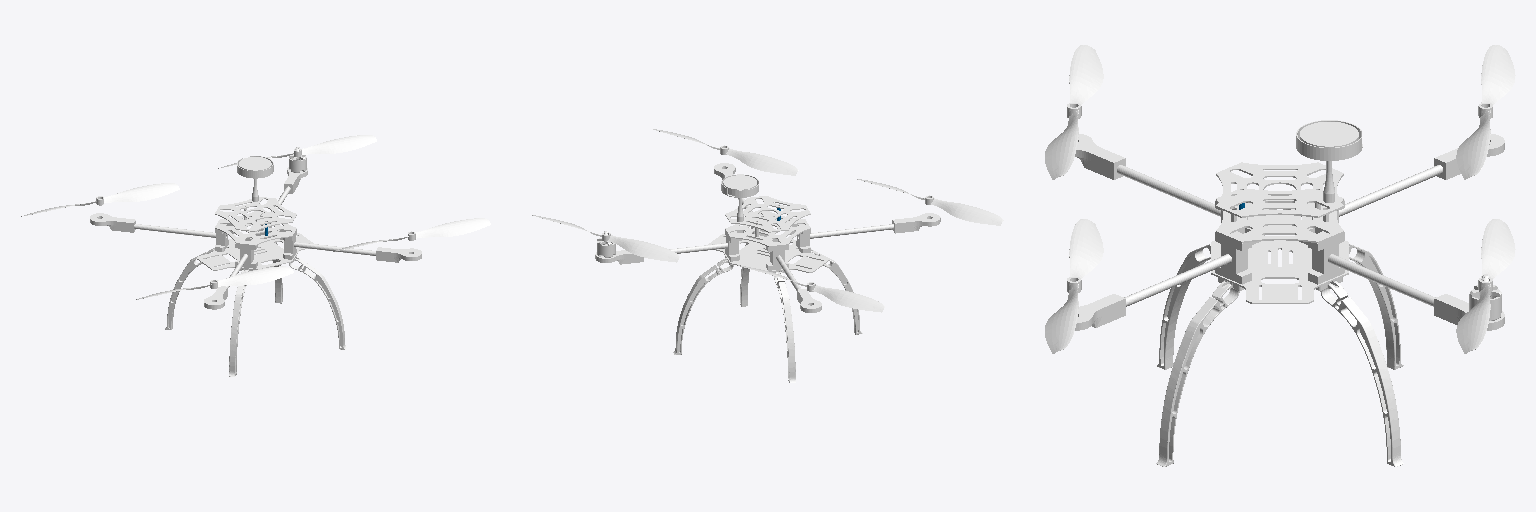
--- Facts derived from the render (not from the file) ---
Views: 3 orthographic renders of the robot side by side, from view 1: azimuth 30°, elevation 25°; view 2: azimuth 150°, elevation 25°; view 3: azimuth 270°, elevation 25°.
Model Spark_F450 with 31 links and 30 joints (4 continuous, 26 fixed), rooted at CHASIS_0, posed all joints at 0.
Links seen in each view (by area): view 1: CHASIS_2, CHASIS_0, BACK_RIGHT_PROPELLER, BACK_LEFT_PROPELLER, FRONT_RIGHT_PROPELLER, CHASIS_1, FRONT_LEFT_PROPELLER, FRONT_RIGHT_FOOT, BACK_RIGHT_FOOT, BACK_LEFT_MBASE, FRONT_RIGHT_MBASE, BACK_LEFT_FOOT; view 2: CHASIS_2, CHASIS_0, CHASIS_1, BACK_RIGHT_PROPELLER, FRONT_RIGHT_PROPELLER, BACK_LEFT_PROPELLER, FRONT_LEFT_PROPELLER, FRONT_LEFT_FOOT, BACK_LEFT_FOOT, BACK_RIGHT_MBASE; view 3: CHASIS_2, CHASIS_0, FRONT_RIGHT_FOOT, FRONT_LEFT_FOOT, BACK_LEFT_PROPELLER, FRONT_RIGHT_PROPELLER, BACK_RIGHT_PROPELLER, FRONT_LEFT_PROPELLER, CHASIS_1, BACK_LEFT_FOOT, BACK_RIGHT_FOOT, GPS_ANTENNA (+12 smaller).
Boxes of the visible links, x1=… form: CHASIS_2: x1=197, y1=233, x2=313, y2=270; CHASIS_0: x1=215, y1=197, x2=296, y2=231; BACK_RIGHT_PROPELLER: x1=136, y1=266, x2=293, y2=299; BACK_LEFT_PROPELLER: x1=21, y1=183, x2=179, y2=216; FRONT_RIGHT_PROPELLER: x1=333, y1=218, x2=490, y2=251; CHASIS_1: x1=215, y1=211, x2=296, y2=245; FRONT_LEFT_PROPELLER: x1=218, y1=135, x2=376, y2=168; FRONT_RIGHT_FOOT: x1=289, y1=256, x2=346, y2=349; BACK_RIGHT_FOOT: x1=229, y1=269, x2=252, y2=376; BACK_LEFT_MBASE: x1=90, y1=213, x2=135, y2=232; FRONT_RIGHT_MBASE: x1=376, y1=247, x2=421, y2=262; BACK_LEFT_FOOT: x1=165, y1=248, x2=227, y2=329; CHASIS_2: x1=708, y1=234, x2=828, y2=272; CHASIS_0: x1=725, y1=196, x2=810, y2=232; CHASIS_1: x1=725, y1=211, x2=810, y2=246; BACK_RIGHT_PROPELLER: x1=857, y1=179, x2=1003, y2=225; FRONT_RIGHT_PROPELLER: x1=653, y1=129, x2=798, y2=175; BACK_LEFT_PROPELLER: x1=737, y1=265, x2=884, y2=312; FRONT_LEFT_PROPELLER: x1=532, y1=215, x2=679, y2=262; FRONT_LEFT_FOOT: x1=673, y1=257, x2=733, y2=354; BACK_LEFT_FOOT: x1=773, y1=271, x2=795, y2=382; BACK_RIGHT_MBASE: x1=892, y1=213, x2=940, y2=233; CHASIS_2: x1=1211, y1=215, x2=1348, y2=303; CHASIS_0: x1=1216, y1=162, x2=1343, y2=217; FRONT_RIGHT_FOOT: x1=1156, y1=277, x2=1243, y2=466; FRONT_LEFT_FOOT: x1=1316, y1=277, x2=1403, y2=466; BACK_LEFT_PROPELLER: x1=1456, y1=45, x2=1515, y2=179; FRONT_RIGHT_PROPELLER: x1=1045, y1=219, x2=1103, y2=353; BACK_RIGHT_PROPELLER: x1=1045, y1=45, x2=1103, y2=179; FRONT_LEFT_PROPELLER: x1=1456, y1=219, x2=1515, y2=353; CHASIS_1: x1=1216, y1=189, x2=1343, y2=242; BACK_LEFT_FOOT: x1=1349, y1=244, x2=1403, y2=369; BACK_RIGHT_FOOT: x1=1157, y1=244, x2=1210, y2=369; GPS_ANTENNA: x1=1296, y1=120, x2=1362, y2=202.
Size in the robot's own frame: 0.6065 by 0.3963 by 0.2715 metres.
27 mesh visuals loaded from 30 distinct referenced files (27 binary STL); not drawn: 3 (reference not matched to a file when rendering).

robot.urdf — Spark_F450:
<?xml version="1.0"?>
<robot name = "Spark_F450">
<!-- -->
<!--________________________________________CHASIS-0_______________________________________________________________________________  -->
<link name="CHASIS_0">
 <visual>
 <origin xyz="0 0 0" rpy="0 0 0" />
 <geometry>   
           <mesh filename="package://drone_f450/meshes/chasis_0.STL" scale="0.001 0.001 0.001" />  
 </geometry>
 <material name="gold1">
                        <color rgba="54 43 21 0.8"/>
 </material>

 </visual>
   
 <collision>
 <origin xyz="0 0 0.00075" rpy="0 0 0"/>
 <geometry>
           <box size="0.108 0.108 0.0015"/>
 </geometry>
 </collision>
		<inertial>
			<mass value="0.0268"/>
	 		<inertia ixx="1.0" ixy="0.0" ixz="0.0" iyy="1.0" iyz="0.0" izz="1.0"/>
		</inertial>
</link>
<!--________________________________________GPS_ANTENA_______________________________________________________________________________  -->
<link name="GPS_ANTENNA">
 <visual>
     <origin xyz="0 0 0" rpy="0 0 0" />
      #this origen is then located where the tf is placed
     <geometry>
              <mesh filename="package://drone_f450/meshes/gps_antena.STL" scale="0.001 0.001 0.001"/> 
     </geometry>

     <material name="GOLD2">
              <color rgba="101 71 20 0.8"/>
     </material>
 </visual>
    
 <collision>
     <origin xyz="0 0 0.031" rpy="0 0 0"/> #Respect to the GPS origen
     <geometry>
           <cylinder radius="0.027" length="0.062"/>
     </geometry>
 </collision>
		<inertial>
			<mass value="0.0268"/>
	 		<inertia ixx="1.0" ixy="0.0" ixz="0.0" iyy="1.0" iyz="0.0" izz="1.0"/>
		</inertial>
</link>
<!--________________________________________GPS-PIXWAWK_______________________________________________________________________________  -->
<link name="GPS_PIXHAWK">
 <visual>
     <origin xyz="0 0 0.0055" rpy="0 0 0" />#this origen is then located where the tf is placed
     <geometry>
              <cylinder radius="0.025" length="0.011"/>
     </geometry>

     <material name="GOLD2">
              <color rgba="101 71 20 0.60"/>
     </material>
 </visual>
    
 <collision>
     <origin xyz="0 0 0.0055" rpy="0 0 0"/> #Respect to the GPS origen
     <geometry>
               <cylinder radius="0.025" length="0.011"/>
     </geometry>
 </collision>
		<inertial>
			<mass value="0.02"/>
	 		<inertia ixx="1.0" ixy="0.0" ixz="0.0" iyy="1.0" iyz="0.0" izz="1.0"/>
		</inertial>
</link>
<!--________________________________________LEFT-COLUMN_______________________________________________________________________________  -->
<link name="LEFT_COLUMN">

 <visual>
     <origin xyz="0 0 0" rpy="0 0 0" />
     <geometry>
               <mesh filename="package://drone_f450/meshes/left_column.STL" scale="0.001 0.001 0.001"/>
     </geometry>
     <material name="GOLD2">
          <color rgba="101 71 20 0.8"/>
     </material>
 </visual>
    
 <collision>
     <origin xyz="0 0 -0.011" rpy="0 0 0"/>
     <geometry>
           <cylinder radius="0.003176" length="0.022"/>
     </geometry>
 </collision>
		<inertial>
			<mass value="0.0009"/>
	 		<inertia ixx="1.0" ixy="0.0" ixz="0.0" iyy="1.0" iyz="0.0" izz="1.0"/>
		</inertial>
</link>
<!--________________________________________RIGHT-COLUMN_______________________________________________________________________________  -->
<link name="RIGHT_COLUMN">

 <visual>
     <origin xyz="0 0 0" rpy="0 0 0" />
     <geometry>
               <mesh filename="package://drone_f450/meshes/right_column.STL" scale="0.001 0.001 0.001"/>
     </geometry>

 </visual>
    
 <collision>
     <origin xyz="0 0 -0.011" rpy="0 0 0"/>
     <geometry>
           <cylinder radius="0.003176" length="0.022"/>
     </geometry>
 </collision>
		<inertial>
			<mass value="0.0009"/>
	 		<inertia ixx="1.0" ixy="0.0" ixz="0.0" iyy="1.0" iyz="0.0" izz="1.0"/>
		</inertial>
</link>

<!--________________________________________CHASIS-1_______________________________________________________________________________  -->
<link name="CHASIS_1">

 <visual>
     <origin xyz="0 0.032 0" rpy="0 0 0" />
     <geometry>
               <mesh filename="package://drone_f450/meshes/chasis_1.STL" scale="0.001 0.001 0.001"/>
     </geometry>
     <material name="GOLD2">
          <color rgba="101 71 20 0.8"/>
     </material>
 </visual>
    
 <collision>
 <origin xyz="0 0.032 0.00075" rpy="0 0 0"/>
          <geometry>
                   <box size="0.108 0.108 0.0015"/>
         </geometry>
 </collision>
		<inertial>
			<mass value="0.0268"/>
	 		<inertia ixx="1.0" ixy="0.0" ixz="0.0" iyy="1.0" iyz="0.0" izz="1.0"/>
		</inertial>
</link>
<!--________________________________________FRONT-LEFT-BLOCK___________________________________________________________________________  -->
<link name="FRONT_LEFT_BLOCK">

 <visual>
     <origin xyz="0 0 0" rpy="0 0 0" />
     <geometry>
               <mesh filename="package://drone_f450/meshes/front_left_block.STL" scale="0.001 0.001 0.001"/>
     </geometry>
     <material name="GOLD2">
          <color rgba="101 71 20 0.60"/>
     </material>
 </visual>
    
 <collision>
 <origin xyz="0 0 -0.019 " rpy="0 0 0"/>
          <geometry>
                <cylinder radius="0.02475" length="0.038"/>
         </geometry>
 </collision>
		<inertial>
			<mass value="0.03862"/>
	 		<inertia ixx="1.0" ixy="0.0" ixz="0.0" iyy="1.0" iyz="0.0" izz="1.0"/>
		</inertial>
</link>
<!--________________________________________FRONT-RIGHT-BLOCK___________________________________________________________________________  -->
<link name="FRONT_RIGHT_BLOCK">

 <visual>
     <origin xyz="0 0 0" rpy="0 0 0" />
     <geometry>
               <mesh filename="package://drone_f450/meshes/front_right_block.STL" scale="0.001 0.001 0.001"/>
     </geometry>
     <material name="GOLD2">
          <color rgba="101 71 20 0.60"/>
     </material>
 </visual>
    
 <collision>
 <origin xyz="0 0 -0.019 " rpy="0 0 0"/>
          <geometry>
                <cylinder radius="0.02475" length="0.038"/>
         </geometry>
 </collision>
		<inertial>
			<mass value="0.03862"/>
	 		<inertia ixx="1.0" ixy="0.0" ixz="0.0" iyy="1.0" iyz="0.0" izz="1.0"/>
		</inertial>
</link>

<!--________________________________________BACK-LEFT-BLOCK___________________________________________________________________________  -->
<link name="BACK_LEFT_BLOCK">

 <visual>
     <origin xyz="0 0 0" rpy="0 0 0" />
     <geometry>
               <mesh filename="package://drone_f450/meshes/back_left_block.STL" scale="0.001 0.001 0.001"/>
     </geometry>
     <material name="GOLD2">
          <color rgba="101 71 20 0.60"/>
     </material>
 </visual>
    
 <collision>
 <origin xyz="0 0 -0.019 " rpy="0 0 0"/>
          <geometry>
                <cylinder radius="0.02475" length="0.038"/>
         </geometry>
 </collision>
		<inertial>
			<mass value="0.03862"/>
	 		<inertia ixx="1.0" ixy="0.0" ixz="0.0" iyy="1.0" iyz="0.0" izz="1.0"/>
		</inertial>
</link>
<!--________________________________________BACK-RIGHT-BLOCK___________________________________________________________________________  -->
<link name="BACK_RIGHT_BLOCK">

 <visual>
     <origin xyz="0 0 0" rpy="0 0 0" />
     <geometry>
               <mesh filename="package://drone_f450/meshes/back_right_block.STL" scale="0.001 0.001 0.001"/>
     </geometry>
     <material name="GOLD2">
          <color rgba="101 71 20 0.60"/>
     </material>
 </visual>
    
 <collision>
 <origin xyz="0 0 -0.019 " rpy="0 0 0"/>
          <geometry>
                <cylinder radius="0.02475" length="0.038"/>
         </geometry>
 </collision>
		<inertial>
			<mass value="0.03862"/>
	 		<inertia ixx="1.0" ixy="0.0" ixz="0.0" iyy="1.0" iyz="0.0" izz="1.0"/>
		</inertial>
</link>
<!--________________________________________FRONT-LEFT-ARM___________________________________________________________________________  -->
<link name="FRONT_LEFT_ARM">

 <visual>
     <origin xyz="0 0 0" rpy="0 0 0" />
     <geometry>
               <mesh filename="package://drone_f450/meshes/front_left_arm.STL" scale="0.001 0.001 0.001"/>
     </geometry>
     <material name="GOLD2">
          <color rgba="101 71 20 0.80"/>
     </material>
 </visual>
    
 <collision>
 <origin xyz="0.077 0.077 0 " rpy="0 1.5708 0.785398"/>
          <geometry>
                <cylinder radius="0.02" length="0.154"/>
         </geometry>
 </collision>
		<inertial>
			<mass value="0.01278"/>
	 		<inertia ixx="1.0" ixy="0.0" ixz="0.0" iyy="1.0" iyz="0.0" izz="1.0"/>
		</inertial>
</link>
<!--________________________________________FRONT-RIGHT-ARM___________________________________________________________________________  -->
<link name="FRONT_RIGHT_ARM">

 <visual>
     <origin xyz="0 0 0" rpy="0 0 0" />
     <geometry>
               <mesh filename="package://drone_f450/meshes/front_right_arm.STL" scale="0.001 0.001 0.001"/>
     </geometry>
     <material name="GOLD2">
          <color rgba="101 71 20 0.80"/>
     </material>
 </visual>
    
 <collision>
 <origin xyz="0.077 -0.077 0 " rpy="0 1.5708 -0.785398"/>
          <geometry>
                <cylinder radius="0.02" length="0.154"/>
         </geometry>
 </collision>
		<inertial>
			<mass value="0.01278"/>
	 		<inertia ixx="1.0" ixy="0.0" ixz="0.0" iyy="1.0" iyz="0.0" izz="1.0"/>
		</inertial>
</link>
<!--________________________________________BACK-LEFT-ARM___________________________________________________________________________  -->
<link name="BACK_LEFT_ARM">

 <visual>
     <origin xyz="0 0 0" rpy="0 0 0" />
     <geometry>
               <mesh filename="package://drone_f450/meshes/back_left_arm.STL" scale="0.001 0.001 0.001"/>
     </geometry>
     <material name="GOLD2">
          <color rgba="101 71 20 0.80"/>
     </material>
 </visual>
    
 <collision>
 <origin xyz="-0.077 0.077 0 " rpy="0 1.5708 -0.785398"/>
          <geometry>
                <cylinder radius="0.02" length="0.154"/>
         </geometry>
 </collision>
		<inertial>
			<mass value="0.01278"/>
	 		<inertia ixx="1.0" ixy="0.0" ixz="0.0" iyy="1.0" iyz="0.0" izz="1.0"/>
		</inertial>
</link>

<!--________________________________________BACK-RIGHT-ARM___________________________________________________________________________  -->
<link name="BACK_RIGHT_ARM">

 <visual>
     <origin xyz="0 0 0" rpy="0 0 0" />
     <geometry>
               <mesh filename="package://drone_f450/meshes/back_right_arm.STL" scale="0.001 0.001 0.001"/>
     </geometry>
     <material name="GOLD2">
          <color rgba="101 71 20 0.80"/>
     </material>
 </visual>
    
 <collision>
 <origin xyz="-0.077 -0.077 0 " rpy="0 1.5708 0.785398"/>
          <geometry>
                <cylinder radius="0.02" length="0.154"/>
         </geometry>
 </collision>
		<inertial>
			<mass value="0.01278"/>
	 		<inertia ixx="1.0" ixy="0.0" ixz="0.0" iyy="1.0" iyz="0.0" izz="1.0"/>
		</inertial>
</link>

<!--________________________________________CHASIS-2_______________________________________________________________________________  -->
<link name="CHASIS_2">

 <visual>
     <origin xyz="-0.035751 -0.035751 -0.0015" rpy="0 0 0" />
     <geometry>
               <mesh filename="package://drone_f450/meshes/chasis_2.STL" scale="0.001 0.001 0.001"/>
     </geometry>
     <material name="GOLD2">
          <color rgba="101 71 20 0.8"/>
     </material>
 </visual>
    
 <collision>
 <origin xyz="-0.035751 -0.035751 0.00075" rpy="0 0 0"/>
          <geometry>
                   <box size="0.181 0.117 0.0015"/>
         </geometry>
 </collision>
		<inertial>
			<mass value="0.02680"/>
	 		<inertia ixx="1.0" ixy="0.0" ixz="0.0" iyy="1.0" iyz="0.0" izz="1.0"/>
		</inertial>
</link>
<!--________________________________________FRONT-LEFT-MBASE___________________________________________________________________________  -->
<link name="FRONT_LEFT_MBASE">

 <visual>
     <origin xyz="0 0 0" rpy="0 0 0" />
     <geometry>
               <mesh filename="package://drone_f450/meshes/front_left_mbase.STL" scale="0.001 0.001 0.001"/>
     </geometry>
     <material name="GOLD2">
          <color rgba="101 71 20 0.80"/>
     </material>
 </visual>
    
 <collision>
 <origin xyz="0.017678 0.017678 0 " rpy="0 1.5708 0.785398"/>
          <geometry>
                <cylinder radius="0.04" length="0.07"/>
         </geometry>
 </collision>
		<inertial>
			<mass value="0.0192"/>
	 		<inertia ixx="1.0" ixy="0.0" ixz="0.0" iyy="1.0" iyz="0.0" izz="1.0"/>
		</inertial>
</link>
<!--________________________________________FRONT-RIGHT-MBASE___________________________________________________________________________  -->
<link name="FRONT_RIGHT_MBASE">

 <visual>
     <origin xyz="0 0 0" rpy="0 0 0" />
     <geometry>
               <mesh filename="package://drone_f450/meshes/front_right_mbase.STL" scale="0.001 0.001 0.001"/>
     </geometry>
     <material name="GOLD2">
          <color rgba="101 71 20 0.80"/>
     </material>
 </visual>
    
 <collision>
 <origin xyz="0.017678 -0.017678 0 " rpy="0 1.5708 -0.785398"/>
          <geometry>
                <cylinder radius="0.04" length="0.07"/>
         </geometry>
 </collision>
		<inertial>
			<mass value="0.0192"/>
	 		<inertia ixx="1.0" ixy="0.0" ixz="0.0" iyy="1.0" iyz="0.0" izz="1.0"/>
		</inertial>
</link>

<!--________________________________________BACK-LEFT-MBASE___________________________________________________________________________  -->
<link name="BACK_LEFT_MBASE">

 <visual>
     <origin xyz="0 0 0" rpy="0 0 0" />
     <geometry>
               <mesh filename="package://drone_f450/meshes/back_left_mbase.STL" scale="0.001 0.001 0.001"/>
     </geometry>
     <material name="GOLD2">
          <color rgba="101 71 20 0.80"/>
     </material>
 </visual>
    
 <collision>
 <origin xyz="-0.017678 0.017678 0 " rpy="0 1.5708 -0.785398"/>
          <geometry>
                <cylinder radius="0.04" length="0.07"/>
         </geometry>
 </collision>
		<inertial>
			<mass value="0.0192"/>
	 		<inertia ixx="1.0" ixy="0.0" ixz="0.0" iyy="1.0" iyz="0.0" izz="1.0"/>
		</inertial>
</link>
<!--________________________________________BACK-RIGHT-MBASE___________________________________________________________________________  -->
<link name="BACK_RIGHT_MBASE">

 <visual>
     <origin xyz="0 0 0" rpy="0 0 0" />
     <geometry>
               <mesh filename="package://drone_f450/meshes/back_right_mbase.STL" scale="0.001 0.001 0.001"/>
     </geometry>
     <material name="GOLD2">
          <color rgba="101 71 20 0.80"/>
     </material>
 </visual>
    
 <collision>
 <origin xyz="-0.017678 -0.017678 0 " rpy="0 1.5708 0.785398"/>
          <geometry>
                <cylinder radius="0.04" length="0.07"/>
         </geometry>
 </collision>
		<inertial>
			<mass value="0.0192"/>
	 		<inertia ixx="1.0" ixy="0.0" ixz="0.0" iyy="1.0" iyz="0.0" izz="1.0"/>
		</inertial>
</link>
<!--________________________________________FRONT-LEFT-MOTOR___________________________________________________________________________  -->
<link name="FRONT_LEFT_MOTOR">

 <visual>
     <origin xyz="0 0 0" rpy="0 0 0" />
     <geometry>
               <mesh filename="package://drone_f450/meshes/m1.STL" scale="0.001 0.001 0.001"/>
     </geometry>
     <material name="GOLD2">
          <color rgba="101 71 20 0.80"/>
     </material>
 </visual>
    
 <collision>
 <origin xyz="0 0 0.019 " rpy="0 0 0"/>
          <geometry>
                <cylinder radius="0.014" length="0.038"/>
         </geometry>
 </collision>
		<inertial>
			<mass value="0.145"/>
	 		<inertia ixx="1.0" ixy="0.0" ixz="0.0" iyy="1.0" iyz="0.0" izz="1.0"/>
		</inertial>
</link>

<!--________________________________________FRONT-RIGHT-MOTOR___________________________________________________________________________  -->
<link name="FRONT_RIGHT_MOTOR">

 <visual>
     <origin xyz="0 0 0" rpy="0 0 0" />
     <geometry>
               <mesh filename="package://drone_f450/meshes/m2.STL" scale="0.001 0.001 0.001"/>
     </geometry>
     <material name="GOLD2">
          <color rgba="101 71 20 0.80"/>
     </material>
 </visual>
    
 <collision>
 <origin xyz="0 0 0.019 " rpy="0 0 0"/>
          <geometry>
                <cylinder radius="0.014" length="0.038"/>
         </geometry>
 </collision>
		<inertial>
			<mass value="0.145"/>
	 		<inertia ixx="1.0" ixy="0.0" ixz="0.0" iyy="1.0" iyz="0.0" izz="1.0"/>
		</inertial>
</link>

<!--________________________________________BACK-LEFT-MOTOR___________________________________________________________________________  -->
<link name="BACK_LEFT_MOTOR">

 <visual>
     <origin xyz="0 0 0" rpy="0 0 0" />
     <geometry>
               <mesh filename="package://drone_f450/meshes/m3.STL" scale="0.001 0.001 0.001"/>
     </geometry>
     <material name="GOLD2">
          <color rgba="101 71 20 0.80"/>
     </material>
 </visual>
    
 <collision>
 <origin xyz="0 0 0.019 " rpy="0 0 0"/>
          <geometry>
                <cylinder radius="0.014" length="0.038"/>
         </geometry>
 </collision>
		<inertial>
			<mass value="0.145"/>
	 		<inertia ixx="1.0" ixy="0.0" ixz="0.0" iyy="1.0" iyz="0.0" izz="1.0"/>
		</inertial>
</link>

<!--________________________________________BACK-RIGHT-MOTOR___________________________________________________________________________  -->
<link name="BACK_RIGHT_MOTOR">

 <visual>
     <origin xyz="0 0 0" rpy="0 0 0" />
     <geometry>
               <mesh filename="package://drone_f450/meshes/m4.STL" scale="0.001 0.001 0.001"/>
     </geometry>
     <material name="GOLD2">
          <color rgba="101 71 20 0.80"/>
     </material>
 </visual>
    
 <collision>
 <origin xyz="0 0 0.019 " rpy="0 0 0"/>
          <geometry>
                <cylinder radius="0.014" length="0.038"/>
         </geometry>
 </collision>
		<inertial>
			<mass value="0.145"/>
	 		<inertia ixx="1.0" ixy="0.0" ixz="0.0" iyy="1.0" iyz="0.0" izz="1.0"/>
		</inertial>
</link>

<!--________________________________________FRONT-LEFT-PROPELLER___________________________________________________________________________  -->
<link name="FRONT_LEFT_PROPELLER">

 <visual>
     <origin xyz="0 0 0" rpy="0 0 0" />
     <geometry>
               <mesh filename="package://drone_f450/meshes/front_left_propeller.STL" scale="0.001 0.001 0.001"/>
     </geometry>
     <material name="GOLD2">
          <color rgba="101 71 20 0.80"/>
     </material>
 </visual>
    
 <collision>
 <origin xyz="0 0 0.0005 " rpy="0 0 0"/>
          <geometry>
                <cylinder radius="0.131" length="0.01"/>
         </geometry>
 </collision>
		<inertial>
			<mass value="0.00776"/>
	 		<inertia ixx="1.0" ixy="0.0" ixz="0.0" iyy="1.0" iyz="0.0" izz="1.0"/>
		</inertial>
</link>

<!--________________________________________FRONT-RIGHT-PROPELLER____________________________________________________________________  -->
<link name="FRONT_RIGHT_PROPELLER">

 <visual>
     <origin xyz="0 0 0" rpy="0 0 0" />
     <geometry>
               <mesh filename="package://drone_f450/meshes/front_right_propeller.STL" scale="0.001 0.001 0.001"/>
     </geometry>
     <material name="GOLD2">
          <color rgba="101 71 20 0.80"/>
     </material>
 </visual>
    
 <collision>
 <origin xyz="0 0 0.0005 " rpy="0 0 0"/>
          <geometry>
                <cylinder radius="0.131" length="0.01"/>
         </geometry>
 </collision>
		<inertial>
			<mass value="0.00776"/>
	 		<inertia ixx="1.0" ixy="0.0" ixz="0.0" iyy="1.0" iyz="0.0" izz="1.0"/>
		</inertial>
</link>

<!--________________________________________BACK-LEFT-PROPELLER____________________________________________________________________  -->
<link name="BACK_LEFT_PROPELLER">

 <visual>
     <origin xyz="0 0 0" rpy="0 0 0" />
     <geometry>
               <mesh filename="package://drone_f450/meshes/back_left_propeller.STL" scale="0.001 0.001 0.001"/>
     </geometry>
     <material name="GOLD2">
          <color rgba="101 71 20 0.80"/>
     </material>
 </visual>
    
 <collision>
 <origin xyz="0 0 0.0005 " rpy="0 0 0"/>
          <geometry>
                <cylinder radius="0.131" length="0.01"/>
         </geometry>
 </collision>
		<inertial>
			<mass value="0.00776"/>
	 		<inertia ixx="1.0" ixy="0.0" ixz="0.0" iyy="1.0" iyz="0.0" izz="1.0"/>
		</inertial>
</link>

<!--________________________________________BACK-RIGHT-PROPELLER____________________________________________________________________  -->
<link name="BACK_RIGHT_PROPELLER">

 <visual>
     <origin xyz="0 0 0" rpy="0 0 0" />
     <geometry>
               <mesh filename="package://drone_f450/meshes/back_right_propeller.STL" scale="0.001 0.001 0.001"/>
     </geometry>
     <material name="GOLD2">
          <texture filename="[local-path]/catkin_ws/src/drone_f450/red_fc.jpg" />
     </material>
 </visual>
    
 <collision>
 <origin xyz="0 0 0.0005 " rpy="0 0 0"/>
          <geometry>
                <cylinder radius="0.131" length="0.01"/>
         </geometry>
 </collision>
		<inertial>
			<mass value="0.00776"/>
	 		<inertia ixx="1.0" ixy="0.0" ixz="0.0" iyy="1.0" iyz="0.0" izz="1.0"/>
		</inertial>
</link>

<!--________________________________________FRONT-LEFT-FOOT____________________________________________________________________  -->
<link name="FRONT_LEFT_FOOT">

 <visual>
     <origin xyz="0 0 0" rpy="0 0 0" />
     <geometry>
               <mesh filename="package://drone_f450/meshes/front_left_foot.STL" scale="0.001 0.001 0.001"/>
     </geometry>
     <material name="GOLD2">
          <color rgba="101 71 20 0.80"/>
     </material>
 </visual>
    
 <collision>
 <origin xyz="0.061168 0.061168 -0.072499" rpy="0 0 0.785398"/>
          <geometry>
                <box size="0.144998 0.028 0.144998"/>
         </geometry>
 </collision>
		<inertial>
			<mass value="0.040"/>
	 		<inertia ixx="1.0" ixy="0.0" ixz="0.0" iyy="1.0" iyz="0.0" izz="1.0"/>
		</inertial>
</link>

<!--________________________________________FRONT-RIGHT-FOOT____________________________________________________________________  -->
<link name="FRONT_RIGHT_FOOT">

 <visual>
     <origin xyz="0 0 0" rpy="0 0 0" />
     <geometry>
               <mesh filename="package://drone_f450/meshes/front_right_foot.STL" scale="0.001 0.001 0.001"/>
     </geometry>
     <material name="GOLD2">
          <color rgba="101 71 20 0.80"/>
     </material>
 </visual>
    
 <collision>
 <origin xyz="0.061168 -0.061168 -0.072499" rpy="0 0 -0.785398"/>
          <geometry>
                <box size="0.144998 0.028 0.144998"/>
         </geometry>
 </collision>
		<inertial>
			<mass value="0.040"/>
	 		<inertia ixx="1.0" ixy="0.0" ixz="0.0" iyy="1.0" iyz="0.0" izz="1.0"/>
		</inertial>
</link>

<!--________________________________________BACK-LEFT-FOOT____________________________________________________________________  -->
<link name="BACK_LEFT_FOOT">

 <visual>
     <origin xyz="0 0 0" rpy="0 0 0" />
     <geometry>
               <mesh filename="package://drone_f450/meshes/back_left_foot.STL" scale="0.001 0.001 0.001"/>
     </geometry>
     <material name="GOLD2">
          <color rgba="101 71 20 0.80"/>
     </material>
 </visual>
    
 <collision>
 <origin xyz="-0.061168 0.061168 -0.072499" rpy="0 0 -0.785398"/>
          <geometry>
                <box size="0.144998 0.028 0.144998"/>
         </geometry>
 </collision>
		<inertial>
			<mass value="0.040"/>
	 		<inertia ixx="1.0" ixy="0.0" ixz="0.0" iyy="1.0" iyz="0.0" izz="1.0"/>
		</inertial>
</link>

<!--________________________________________BACK-RIGHT-FOOT____________________________________________________________________  -->
<link name="BACK_RIGHT_FOOT">

 <visual>
     <origin xyz="0 0 0" rpy="0 0 0" />
     <geometry>
               <mesh filename="package://drone_f450/meshes/back_right_foot.STL" scale="0.001 0.001 0.001"/>
     </geometry>
     <material name="GOLD2">
          <color rgba="101 71 20 0.80"/>
     </material>
 </visual>
    
 <collision>
 <origin xyz="-0.061168 -0.061168 -0.072499" rpy="0 0 0.785398"/>
          <geometry>
                <box size="0.144998 0.028 0.144998"/>
         </geometry>
 </collision>
		<inertial>
			<mass value="0.040"/>
	 		<inertia ixx="1.0" ixy="0.0" ixz="0.0" iyy="1.0" iyz="0.0" izz="1.0"/>
		</inertial>
</link>
<!--__________________________________________________________________________________________________________________________________  -->
<!--__________________________________________________________________________________________________________________________________  -->
<joint name="CHASIS-0_GPS-ANTENNA" type="fixed">
       <origin xyz="0.022746 0.04159 0.0015" rpy="0 0 0"/>
       <parent link="CHASIS_0"/>
       <child link="GPS_ANTENNA"/>
</joint>
<!--__________________________________________________________________________________________________________________________________  -->
<joint name="GPS-ANTENA_PIXWAWK" type="fixed">
       <origin xyz="0 0 0.051" rpy="0 0 0"/>
       <parent link="GPS_ANTENNA"/>
       <child link="GPS_PIXHAWK"/>
</joint>
<!--__________________________________________________________________________________________________________________________________  -->
<joint name="CHASIS-0_LEFT-COLUMN" type="fixed">
       <origin xyz="0 0.032 0" rpy="0 0 0"/>
       <parent link="CHASIS_0"/>
       <child link="LEFT_COLUMN"/>
</joint>
<!--__________________________________________________________________________________________________________________________________  -->
<joint name="CHASIS-0_RIGHT-COLUMN" type="fixed">
       <origin xyz="0 -0.032 0" rpy="0 0 0"/>
       <parent link="CHASIS_0"/>
       <child link="RIGHT_COLUMN"/>
</joint>
<!--__________________________________________________________________________________________________________________________________ --> 
<joint name="RIGHT-COLUMN_CHASIS-1" type="fixed">
       <origin xyz="0 0 -0.0235" rpy="0 0 0"/>
       <parent link="RIGHT_COLUMN"/>
       <child link="CHASIS_1"/>
</joint>
<!--__________________________________________________________________________________________________________________________________  -->
<joint name="CHASIS-1_FLB" type="fixed">
       <origin xyz="0.038007 0.070007 0" rpy="0 0 0"/>
       <parent link="CHASIS_1"/>
       <child link="FRONT_LEFT_BLOCK"/>
</joint>
<!--__________________________________________________________________________________________________________________________________  -->
<joint name="CHASIS-1_FRB" type="fixed">
       <origin xyz="0.038007 -0.006007 0" rpy="0 0 0"/>
       <parent link="CHASIS_1"/>
       <child link="FRONT_RIGHT_BLOCK"/>
</joint>
<!--__________________________________________________________________________________________________________________________________  -->
<joint name="CHASIS-1_BLB" type="fixed">
       <origin xyz="-0.038007 0.070007 0" rpy="0 0 0"/>
       <parent link="CHASIS_1"/>
       <child link="BACK_LEFT_BLOCK"/>
</joint>
<!--__________________________________________________________________________________________________________________________________  -->
<joint name="CHASIS-1_BRB" type="fixed">
       <origin xyz="-0.038007 -0.006007 0" rpy="0 0 0"/>
       <parent link="CHASIS_1"/>
       <child link="BACK_RIGHT_BLOCK"/>
</joint>
<!--__________________________________________________________________________________________________________________________________  -->
<joint name="FLB_FLA" type="fixed">
       <origin xyz="-0.005127 -0.005127 -0.019" rpy="0 0 0"/>
       <parent link="FRONT_LEFT_BLOCK"/>
       <child link="FRONT_LEFT_ARM"/>
</joint>
<!--__________________________________________________________________________________________________________________________________  -->
<joint name="FRB_FRA" type="fixed">
       <origin xyz="-0.005127 0.005127 -0.019" rpy="0 0 0"/>
       <parent link="FRONT_RIGHT_BLOCK"/>
       <child link="FRONT_RIGHT_ARM"/>
</joint>
<!--__________________________________________________________________________________________________________________________________  -->
<joint name="BLB_BLA" type="fixed">
       <origin xyz="0.005127 -0.005127 -0.019" rpy="0 0 0"/>
       <parent link="BACK_LEFT_BLOCK"/>
       <child link="BACK_LEFT_ARM"/>
</joint>
<!--__________________________________________________________________________________________________________________________________  -->
<joint name="BRB_BRA" type="fixed">
       <origin xyz="0.005127 0.005127 -0.019" rpy="0 0 0"/>
       <parent link="BACK_RIGHT_BLOCK"/>
       <child link="BACK_RIGHT_ARM"/>
</joint>
<!--__________________________________________________________________________________________________________________________________  -->
<joint name="FLA-CHASIS-2" type="fixed">
       <origin xyz="0.002934 0.002934  -0.019" rpy="0 0 0"/>
       <parent link="FRONT_LEFT_ARM"/>
       <child link="CHASIS_2"/>
</joint>
<!--__________________________________________________________________________________________________________________________________  -->
<joint name="FLA-FLMB" type="fixed">
       <origin xyz="0.108894 0.108894  0" rpy="0 0 0"/>
       <parent link="FRONT_LEFT_ARM"/>
       <child link="FRONT_LEFT_MBASE"/>
</joint>
<!--__________________________________________________________________________________________________________________________________  -->
<joint name="FRA-FRMB" type="fixed">
       <origin xyz="0.108894 -0.108894  0" rpy="0 0 0"/>
       <parent link="FRONT_RIGHT_ARM"/>
       <child link="FRONT_RIGHT_MBASE"/>
</joint>
<!--__________________________________________________________________________________________________________________________________  -->
<joint name="BLA-BLMB" type="fixed"> <origin xyz="-0.108894 0.108894  0" rpy="0 0 0"/> <parent link="BACK_LEFT_ARM"/>
 <child link="BACK_LEFT_MBASE"/> </joint>
 
<!--__________________________________________________________________________________________________________________________________  -->
<joint name="BRA-BRMB" type="fixed"> <origin xyz="-0.108894 -0.108894  0" rpy="0 0 0"/> <parent link="BACK_RIGHT_ARM"/> <child link="BACK_RIGHT_MBASE"/> </joint>
<!--__________________________________________________________________________________________________________________________________  -->
<joint name="FLMB-FLM1" type="fixed"> <origin xyz="0.031466 0.031466  0.008" rpy="0 0 0"/> <parent link="FRONT_LEFT_MBASE"/> <child link="FRONT_LEFT_MOTOR"/> </joint>
<!--__________________________________________________________________________________________________________________________________  -->
<joint name="FRMB-FRM2" type="fixed"> <origin xyz="0.031466 -0.031466  0.008" rpy="0 0 0"/> <parent link="FRONT_RIGHT_MBASE"/> <child link="FRONT_RIGHT_MOTOR"/> </joint>
<!--__________________________________________________________________________________________________________________________________  -->
<joint name="BLMB-BLM3" type="fixed"> <origin xyz="-0.031466 00.031466  0.008" rpy="0 0 0"/> <parent link="BACK_LEFT_MBASE"/> <child link="BACK_LEFT_MOTOR"/> </joint>
<!--__________________________________________________________________________________________________________________________________  -->
<joint name="BRMB-BRM4" type="fixed"> <origin xyz="-0.031466 -00.031466  0.008" rpy="0 0 0"/> <parent link="BACK_RIGHT_MBASE"/> <child link="BACK_RIGHT_MOTOR"/> </joint> 
<!--__________________________________________________________________________________________________________________________________  -->
<joint name="FLM1_FLP" type="continuous">
       <axis xyz="0 0 1" />
       <limit effort="100" velocity="1193.80" /> #speed for propeller limited to 11400 RPM or 1193.80 Rad/sec
       <origin xyz="0 0 0.023" rpy="0 0 0"/>
       <parent link="FRONT_LEFT_MOTOR"/>
       <child link="FRONT_LEFT_PROPELLER"/>    
</joint>
<!--__________________________________________________________________________________________________________________________________  -->
<joint name="FRM2_FRP" type="continuous">
       <axis xyz="0 0 1" />
       <limit effort="100" velocity="1193.80" /> #speed for propeller limited to 11400 RPM or 1193.80 Rad/sec
       <origin xyz="0 0 0.023" rpy="0 0 0"/>
       <parent link="FRONT_RIGHT_MOTOR"/>
       <child link="FRONT_RIGHT_PROPELLER"/>        
</joint>
<!--__________________________________________________________________________________________________________________________________  -->
<joint name="BLM3_BLP" type="continuous">
       <axis xyz="0 0 1" />
       <limit effort="100" velocity="1193.80" /> #speed for propeller limited to 11400 RPM or 1193.80 Rad/sec
       <origin xyz="0 0 0.023" rpy="0 0 0"/>
       <parent link="BACK_LEFT_MOTOR"/>
       <child link="BACK_LEFT_PROPELLER"/>         
</joint>
<!--__________________________________________________________________________________________________________________________________  -->
<joint name="BRM4_BRP" type="continuous">
       <axis xyz="0 0 1" />
       <limit effort="100" velocity="1193.80" /> #speed for propeller limited to 11400 RPM or 1193.80 Rad/sec
       <origin xyz="0 0 0.023" rpy="0 0 0"/>
       <parent link="BACK_RIGHT_MOTOR"/>
       <child link="BACK_RIGHT_PROPELLER"/>             
</joint>
<!--__________________________________________________________________________________________________________________________________  -->
<joint name="CHASIS2-FLF" type="fixed"> <origin xyz="0 0 -0.0015" rpy="0 0 0"/> <parent link="CHASIS_2"/> <child link="FRONT_LEFT_FOOT"/>
</joint>    
<!--__________________________________________________________________________________________________________________________________  -->
<joint name="CHASIS2-FRF" type="fixed"> <origin xyz="0 -0.071502 -0.0015" rpy="0 0 0"/> <parent link="CHASIS_2"/> <child link="FRONT_RIGHT_FOOT"/> </joint>
<!--__________________________________________________________________________________________________________________________________  -->
<joint name="CHASIS2-BLF" type="fixed"> <origin xyz="-0.071502 0 -0.0015" rpy="0 0 0"/> <parent link="CHASIS_2"/> <child link="BACK_LEFT_FOOT"/> </joint>
<!--__________________________________________________________________________________________________________________________________  -->
<joint name="CHASIS2-BRF" type="fixed"> <origin xyz="-0.071502 -0.071502  -0.0015" rpy="0 0 0"/> <parent link="CHASIS_2"/> <child link="BACK_RIGHT_FOOT"/> </joint>                
<!--__________________________________________________________________________________________________________________________________  -->
 <gazebo reference="CHASIS_0"> <material>Gazebo/Black</material> </gazebo>     
 <gazebo reference="CHASIS_1"> <material>Gazebo/Black</material> </gazebo>       
 <gazebo reference="CHASIS_2"> <material>Gazebo/Black</material> </gazebo>
 <gazebo reference="GPS_ANTENNA"> <material>Gazebo/Black</material> </gazebo>     
 <gazebo reference="GPS_PIXHAWK"> <material>Gazebo/Black</material> </gazebo>      
 <gazebo reference="FRONT_LEFT_PROPELLER"> <material>Gazebo/Black</material> </gazebo>
 <gazebo reference="FRONT_RIGHT_PROPELLER"> <material>Gazebo/Black</material> </gazebo>     
 <gazebo reference="BACK_LEFT_PROPELLER"> <material>Gazebo/Black</material> </gazebo>
 <gazebo reference="BACK_RIGHT_PROPELLER"> <material>Gazebo/Black</material> </gazebo>
 <gazebo reference="FRONT_LEFT_MOTOR"> <material>Gazebo/Red</material> </gazebo>
 <gazebo reference="FRONT_RIGHT_MOTOR"> <material>Gazebo/Red</material> </gazebo>     
 <gazebo reference="BACK_LEFT_MOTOR"> <material>Gazebo/Red</material> </gazebo>
 <gazebo reference="BACK_RIGHT_MOTOR"> <material>Gazebo/Red</material> </gazebo>
<!--________________________________________________________________________________________________________________________-->
               <transmission name="tran1">
			<type>transmission_interface/SimpleTransmission</type>
			<joint name="FLM1_FLP">
				<hardwareInterface>EffortJointInterface</hardwareInterface>
			</joint>
			<actuator name="motor1">
    				<mechanicalReduction>1</mechanicalReduction>
    				<hardwareInterface>EffortJointInterface</hardwareInterface>
  			</actuator>
		</transmission>
<!--________________________________________________________________________________________________________________________-->
               <transmission name="tran2">
			<type>transmission_interface/SimpleTransmission</type>
			<joint name="FRM2_FRP">
				<hardwareInterface>EffortJointInterface</hardwareInterface>
			</joint>
			<actuator name="motor2">
    				<mechanicalReduction>1</mechanicalReduction>
    				<hardwareInterface>EffortJointInterface</hardwareInterface>
  			</actuator>
		</transmission>
<!--________________________________________________________________________________________________________________________-->
               <transmission name="tran3">
			<type>transmission_interface/SimpleTransmission</type>
			<joint name="BLM3_BLP">
				<hardwareInterface>EffortJointInterface</hardwareInterface>
			</joint>
			<actuator name="motor3">
    				<mechanicalReduction>1</mechanicalReduction>
    				<hardwareInterface>EffortJointInterface</hardwareInterface>
  			</actuator>
		</transmission>
<!--________________________________________________________________________________________________________________________-->
               <transmission name="tran4">
			<type>transmission_interface/SimpleTransmission</type>
			<joint name="BRM4_BRP">
				<hardwareInterface>EffortJointInterface</hardwareInterface>
			</joint>
			<actuator name="motor4">
    				<mechanicalReduction>1</mechanicalReduction>
    				<hardwareInterface>EffortJointInterface</hardwareInterface>
  			</actuator>
		</transmission>
<!--________________________________________________________________________________________________________________________-->
<!--________________________________________________________________________________________________________________________-->
	<gazebo> 
	<plugin name="gazebo_ros_control" filename="libgazebo_ros_control.so"> 
	<robotNamespace>/f450</robotNamespace> </plugin>
	</gazebo>

	<gazebo>
     		<plugin name="fluid_resitance_plugin" filename="libfluid_resitance_plugin.so">
        		<fluid_resitanceTopicName>/fluid_resitance</fluid_resitanceTopicName>
        			<NameLinkToApplyResitance>simple_sphere_base_link</NameLinkToApplyResitance>
        		<rate>2.0</rate>
    		</plugin>
	</gazebo>

</robot>
